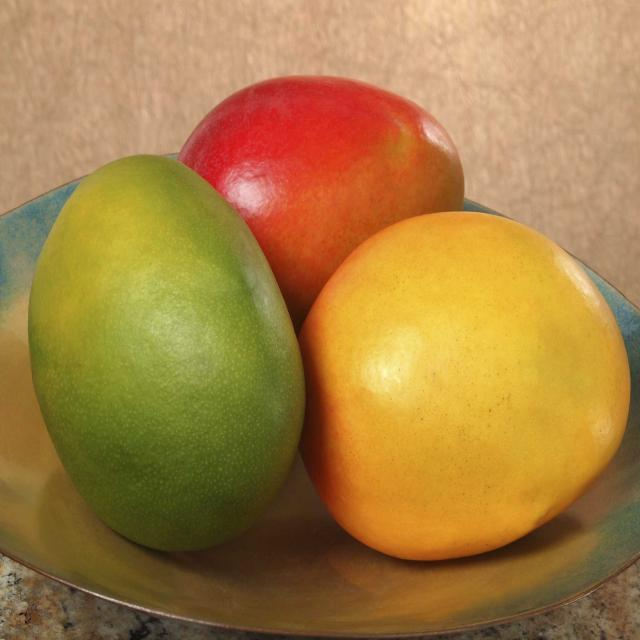mango: (30, 148, 319, 570), (302, 214, 632, 562), (178, 76, 452, 331)
